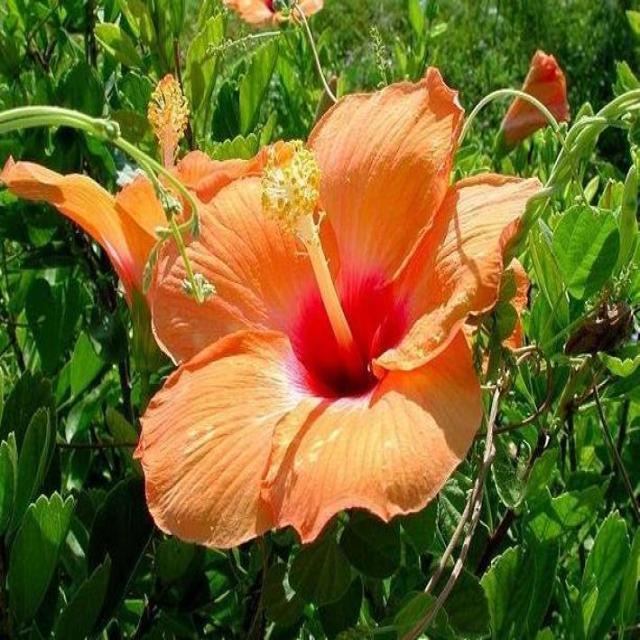hibiscus: (0, 55, 557, 588), (482, 23, 612, 192)
